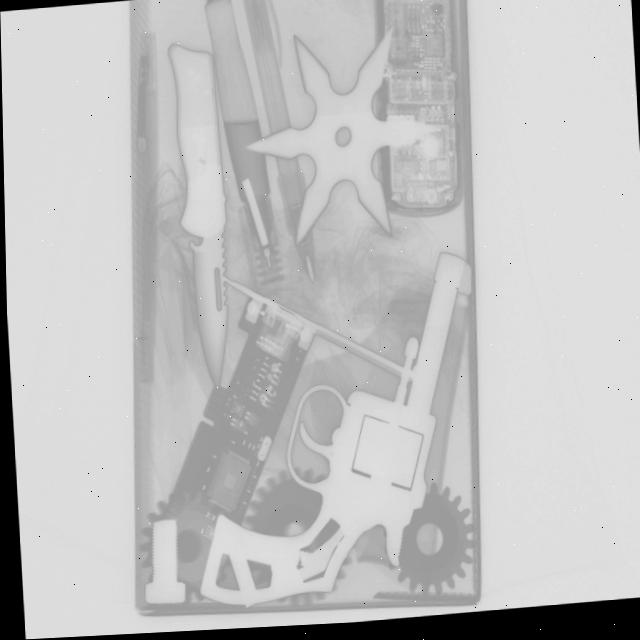knife: (163, 41, 237, 379)
pistol: (180, 251, 485, 607)
